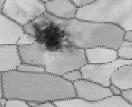good_void: (32, 20, 69, 54)
